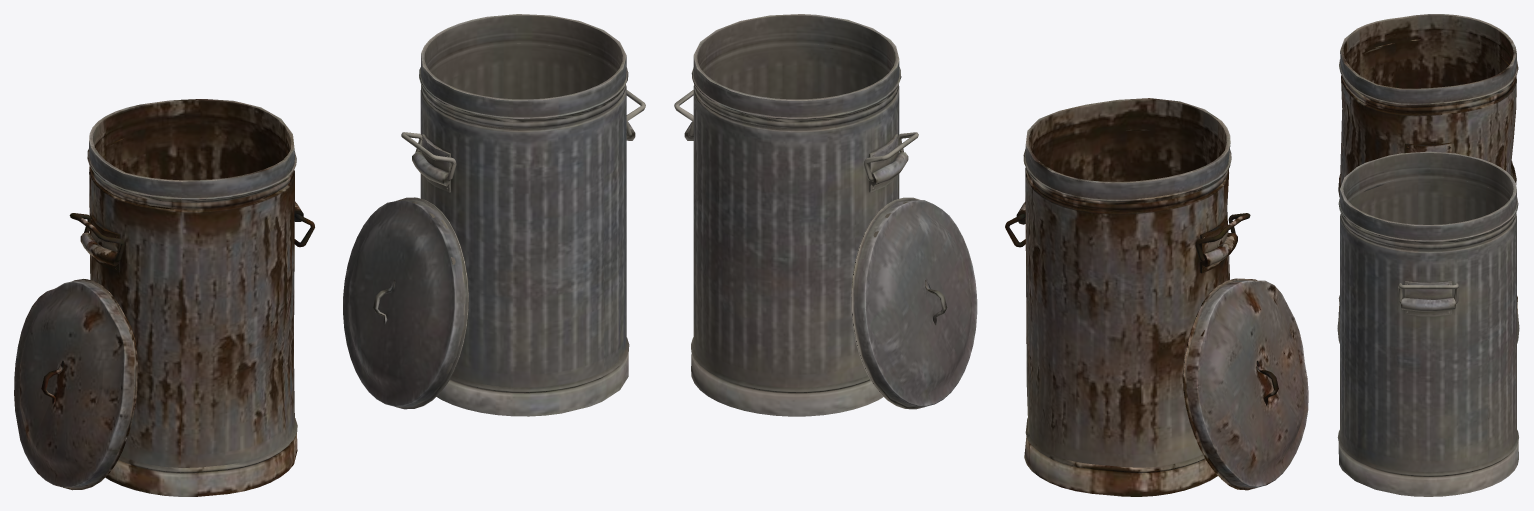
File: metal_trash_can.glb
3 renders of one model, left to right at view 1: azimuth 30°, elevation 25°; view 2: azimuth 150°, elevation 25°; view 3: azimuth 270°, elevation 25°, orthographic. The views are drawn at different scales.
Visible parts, largest first — view 1: metal_trash_can, metal_trash_can_rust, metal_trash_can_lid, metal_trash_can_rust_lid; view 2: metal_trash_can, metal_trash_can_rust, metal_trash_can_lid, metal_trash_can_rust_lid; view 3: metal_trash_can, metal_trash_can_rust, metal_trash_can_handle_right.
Part boxes in pixels (x1,y1,x2,y2): metal_trash_can: (412, 14, 635, 416); metal_trash_can_rust: (80, 99, 303, 496); metal_trash_can_lid: (343, 197, 468, 409); metal_trash_can_rust_lid: (14, 279, 137, 490); metal_trash_can: (684, 14, 908, 416); metal_trash_can_rust: (1016, 98, 1237, 496); metal_trash_can_lid: (851, 197, 977, 409); metal_trash_can_rust_lid: (1183, 278, 1308, 490); metal_trash_can: (1337, 151, 1518, 496); metal_trash_can_rust: (1338, 14, 1518, 316); metal_trash_can_handle_right: (1398, 283, 1458, 303).
Bounding box in the file's own units: 1.78 × 0.9062 × 0.5543.
Materials: 3 (3 with a texture image).
